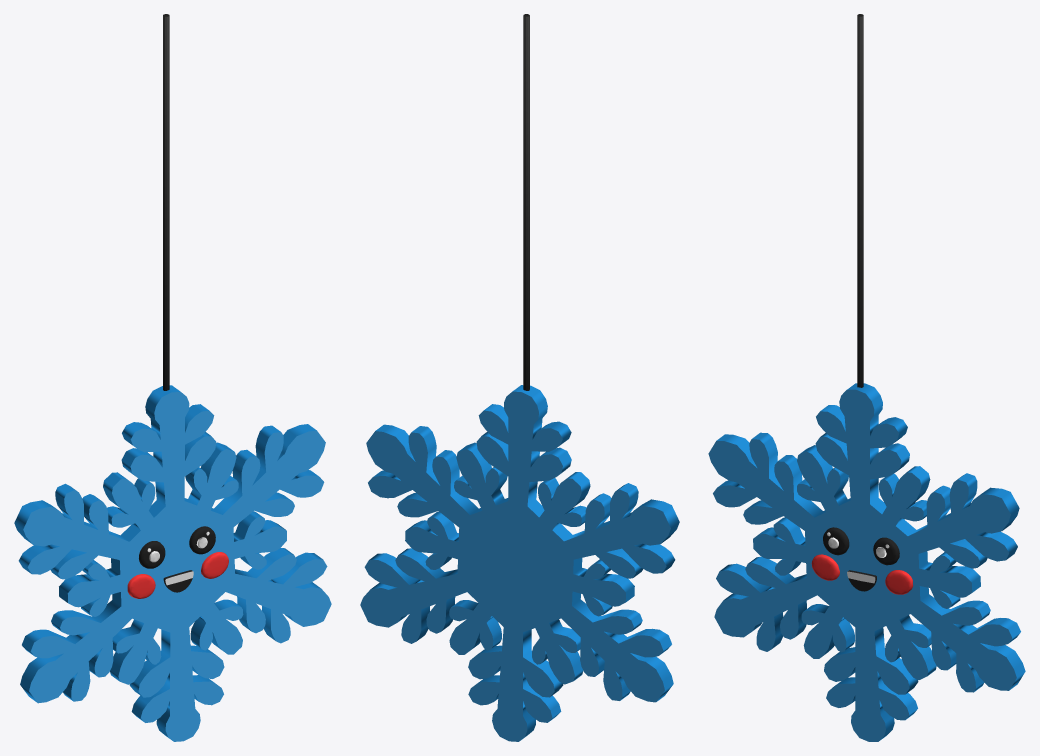
Rendered from Snowflake.fbx.
3 views of the same model, side by side, from view 1: azimuth 30°, elevation 25°; view 2: azimuth 150°, elevation 25°; view 3: azimuth 330°, elevation 25° (orthographic).
Parts seen in each view (by area): view 1: Snowflake; view 2: Snowflake; view 3: Snowflake.
Boxes of the visible parts, box(x1,y1,x2,y2) form: Snowflake: box(14, 14, 331, 741); Snowflake: box(360, 14, 679, 741); Snowflake: box(708, 14, 1025, 741).
Bounding box in the file's own units: 274 × 613 × 20.78.
